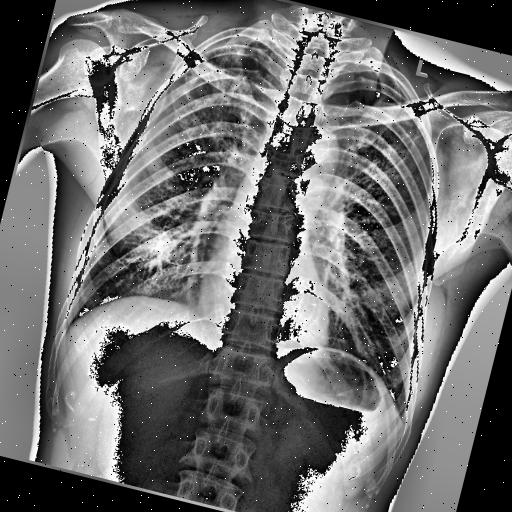10- Pleural effusion: (395, 410, 410, 429)
11- Pleural thickening: (395, 410, 410, 429)
13- Pulmonary fibrosis: (165, 31, 282, 173), (169, 25, 273, 152), (343, 104, 439, 214), (172, 40, 256, 154), (358, 108, 424, 196), (354, 114, 424, 196)
5- ILD: (165, 31, 282, 173), (343, 104, 439, 214), (110, 202, 200, 304)
7- Lung Opacity: (142, 230, 180, 266)
